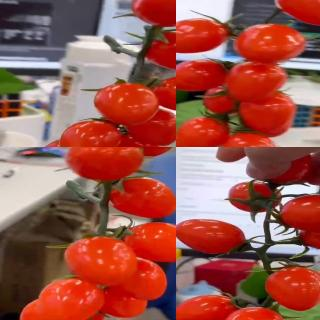tomato: (64, 236, 138, 288), (37, 276, 105, 320), (64, 147, 144, 184), (109, 177, 176, 221), (234, 24, 305, 65), (94, 83, 160, 127), (176, 218, 246, 257), (264, 264, 320, 311), (238, 91, 296, 136), (225, 62, 287, 102), (122, 220, 176, 263), (119, 257, 168, 300), (176, 19, 230, 56), (127, 107, 176, 146), (226, 181, 281, 214), (176, 59, 228, 93), (176, 294, 243, 320), (59, 119, 121, 147), (176, 116, 231, 147), (280, 193, 320, 231), (143, 31, 176, 74), (272, 0, 320, 25), (130, 0, 176, 26), (150, 76, 176, 114), (220, 130, 278, 147), (217, 308, 284, 320), (301, 216, 320, 250), (115, 147, 176, 157), (38, 139, 100, 147)
